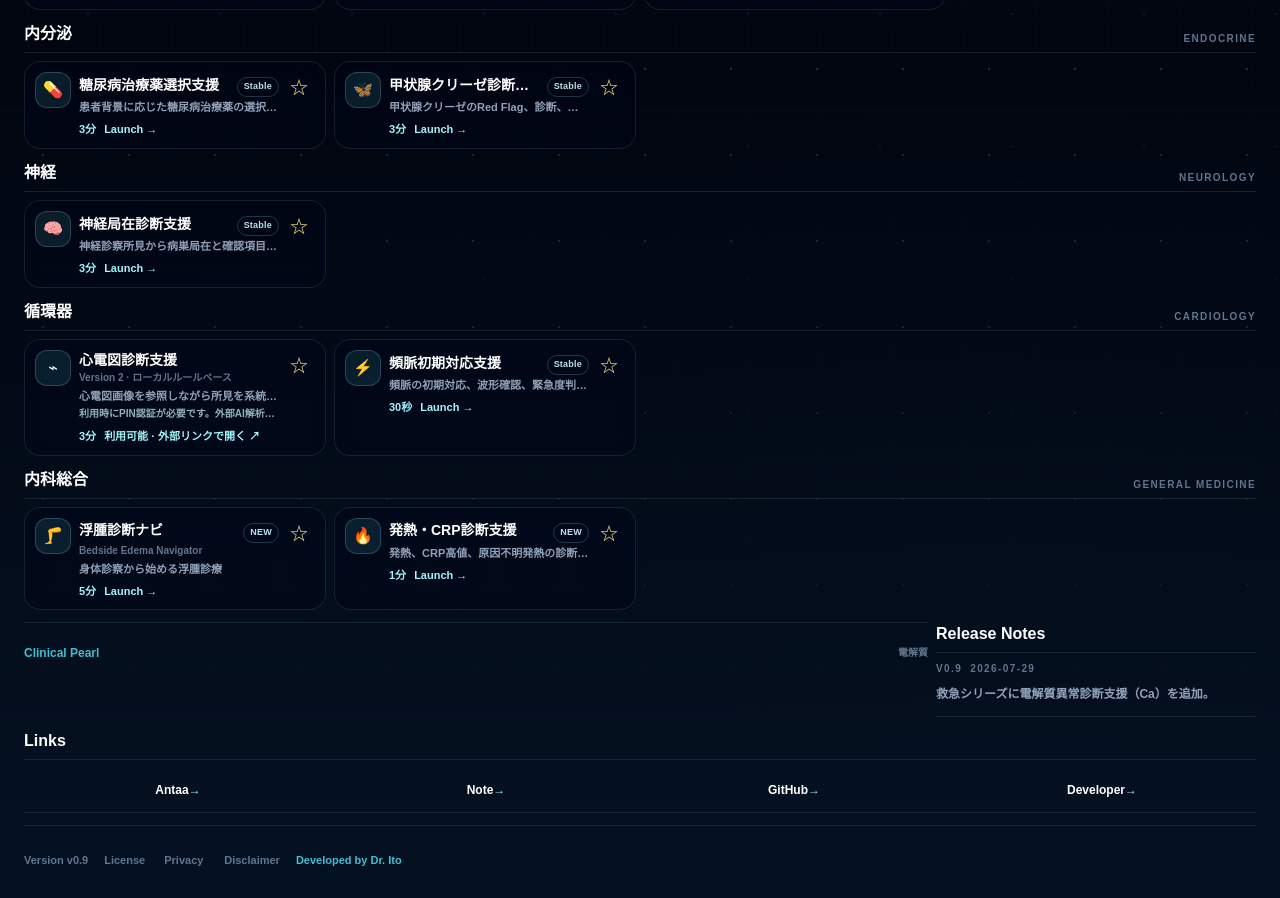
Test: Medical AI Console v3 › adds and removes a favorite while syncing localStorage and dashboard count
(page scrolled)
Click the button named "発熱・CRP診断支援をFavoriteに追加": (609, 534) [587, 512, 631, 556]
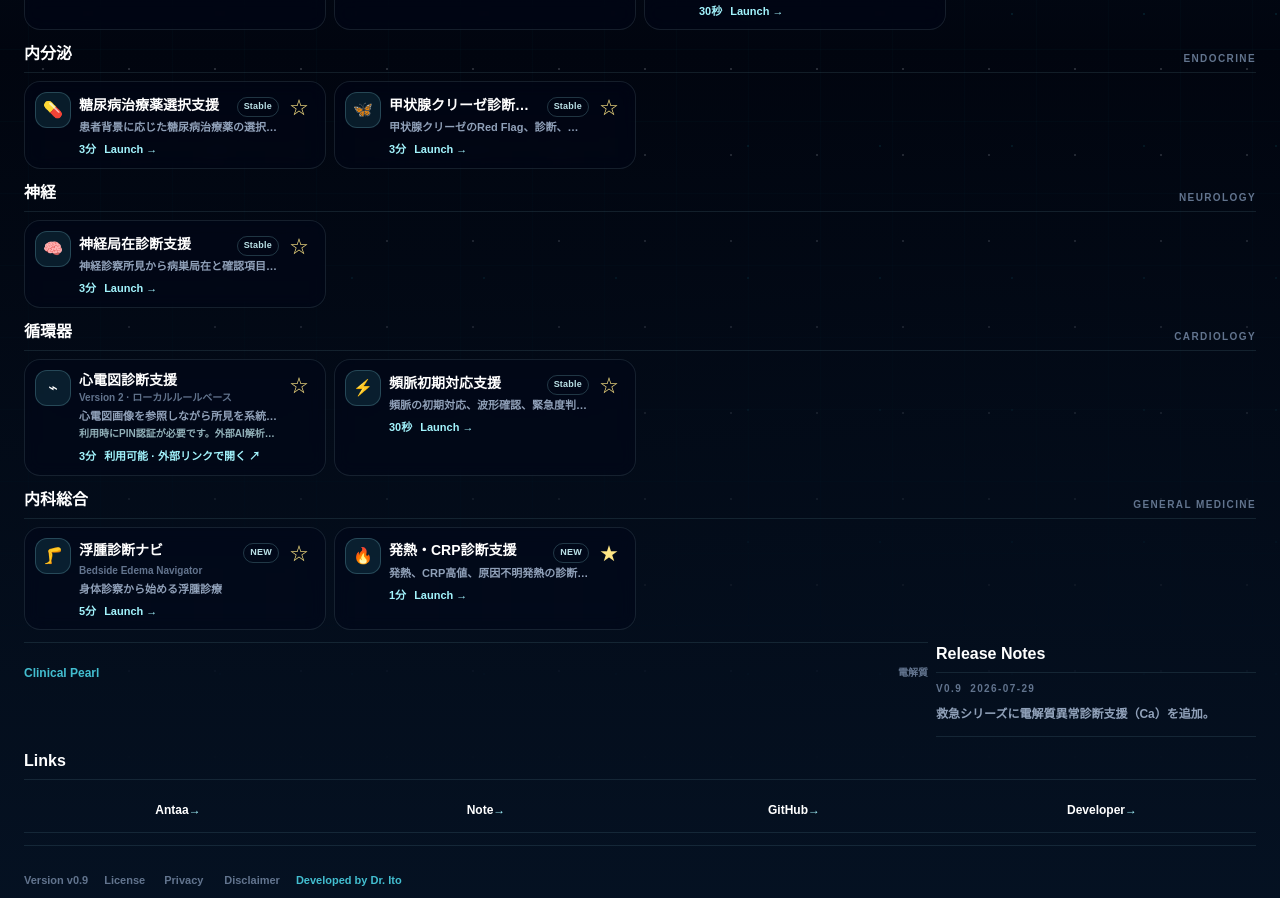
Click the button named "発熱・CRP診断支援をFavoriteから解除": (609, 554) [587, 532, 631, 576]
(page scrolled)
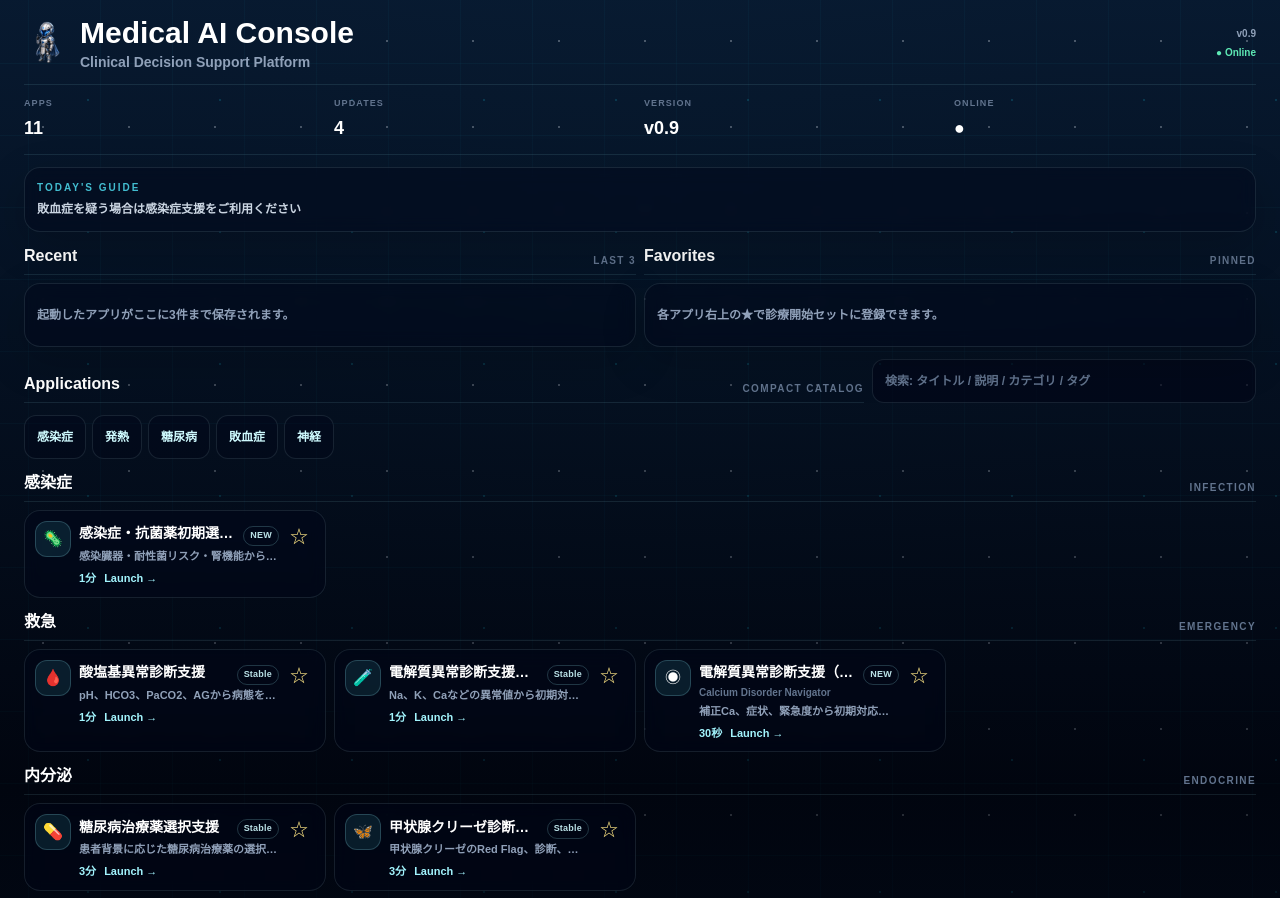
expect the text "各アプリ右上の★で診療開始セットに登録できます。" is shown: met, box [644, 283, 1256, 347]
